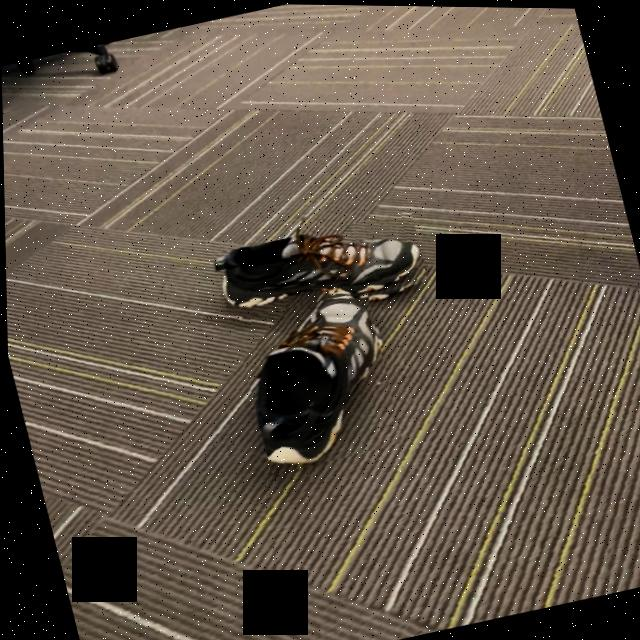shoe: (255, 293, 377, 467), (215, 234, 422, 308)
